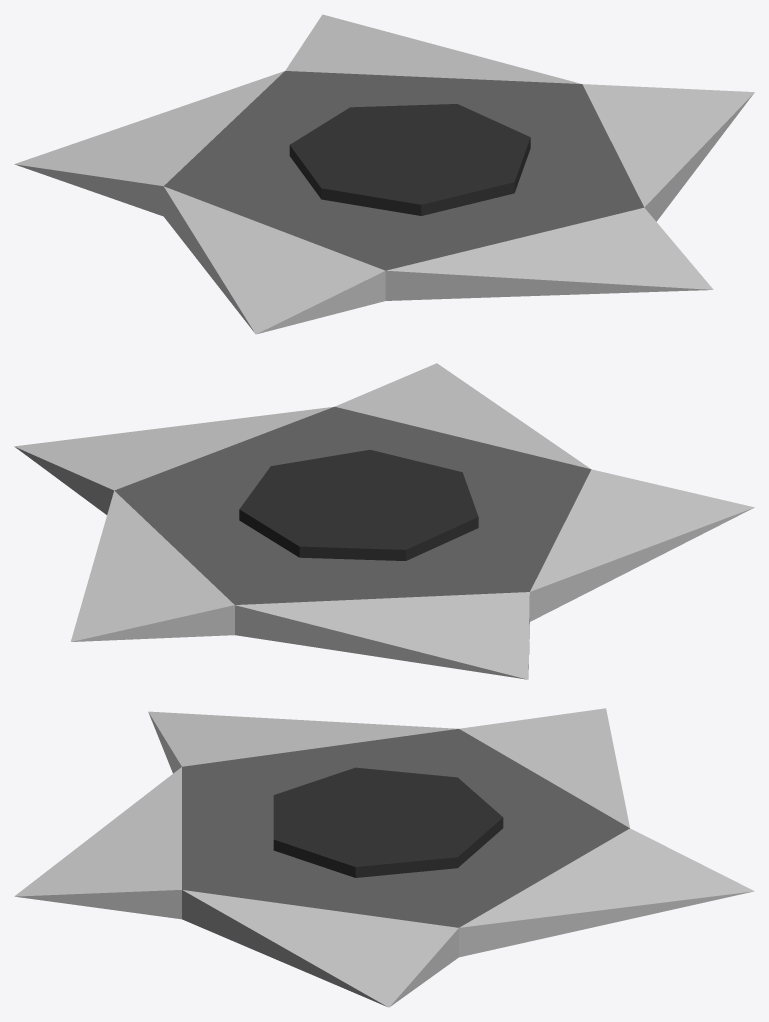
Rendered from Obstacle_SpinBlade.fbx.
The picture shows the model from 3 angles, top to bottom: view 1: azimuth 30°, elevation 25°; view 2: azimuth 150°, elevation 25°; view 3: azimuth 270°, elevation 25°; orthographic projection. The views are drawn at different scales.
Parts seen in each view (by area): view 1: Obstacle_SpinBlade; view 2: Obstacle_SpinBlade; view 3: Obstacle_SpinBlade.
Boxes of the visible parts, left/top/right/bottom form: Obstacle_SpinBlade: left=14, top=14, right=754, bottom=334; Obstacle_SpinBlade: left=14, top=363, right=754, bottom=679; Obstacle_SpinBlade: left=14, top=708, right=754, bottom=1007.
Size of the model in its own units: 615 by 49.31 by 643.
